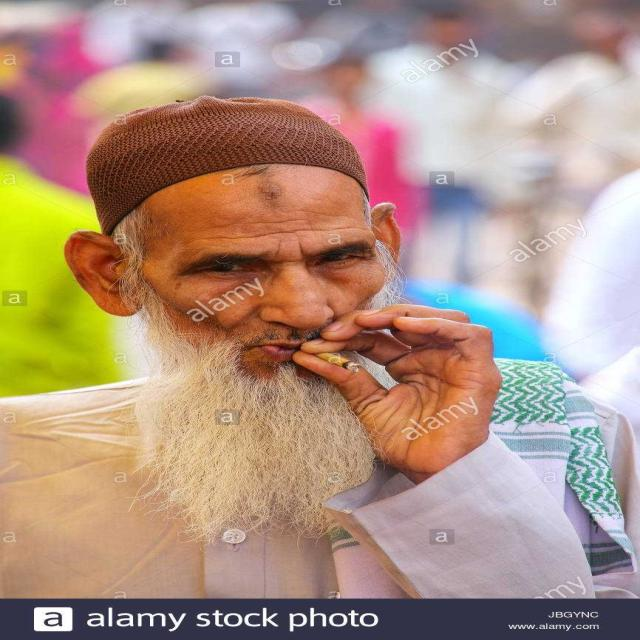Smooking: (313, 344, 369, 375)
